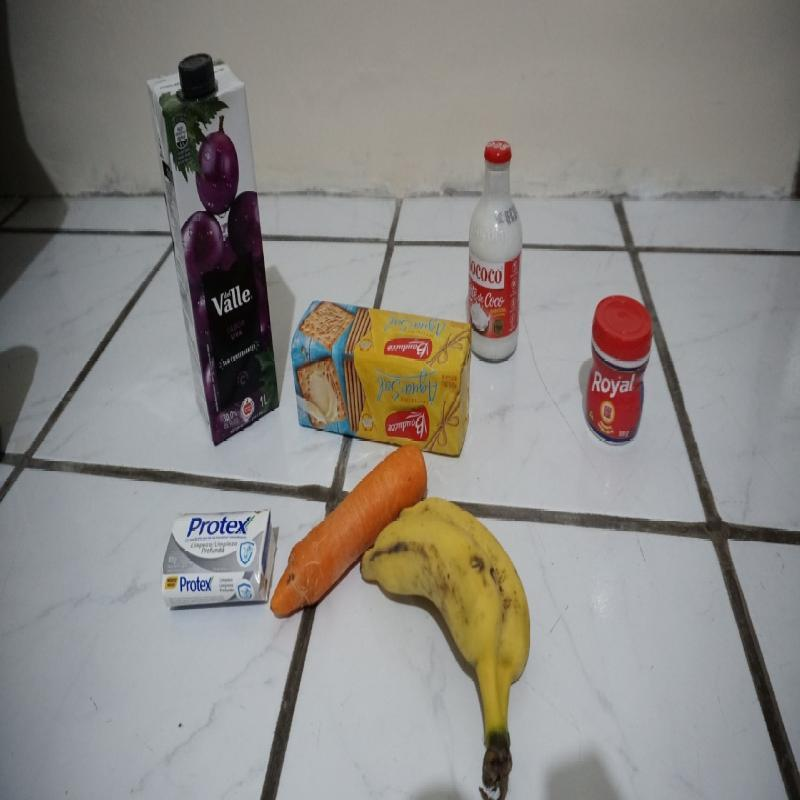Banana: (361, 500, 534, 796)
Carrot: (274, 445, 428, 618)
Coconut Milk: (470, 141, 522, 368)
Cracker: (293, 299, 470, 458)
Soap: (163, 510, 276, 606)
Yeast: (587, 296, 652, 447)
